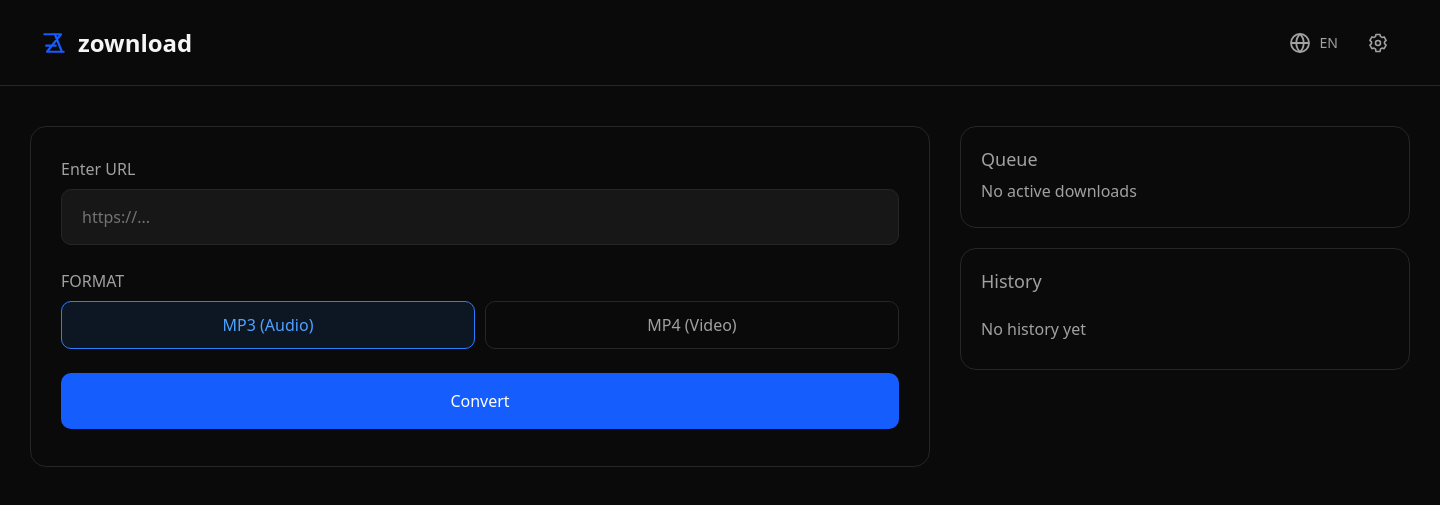
Test: analyzing blocks duplicate submission and translated errors stay below the URL
Type "not-a-url" into the field labelled "Enter URL" at (480, 217), box [61,189,899,245]
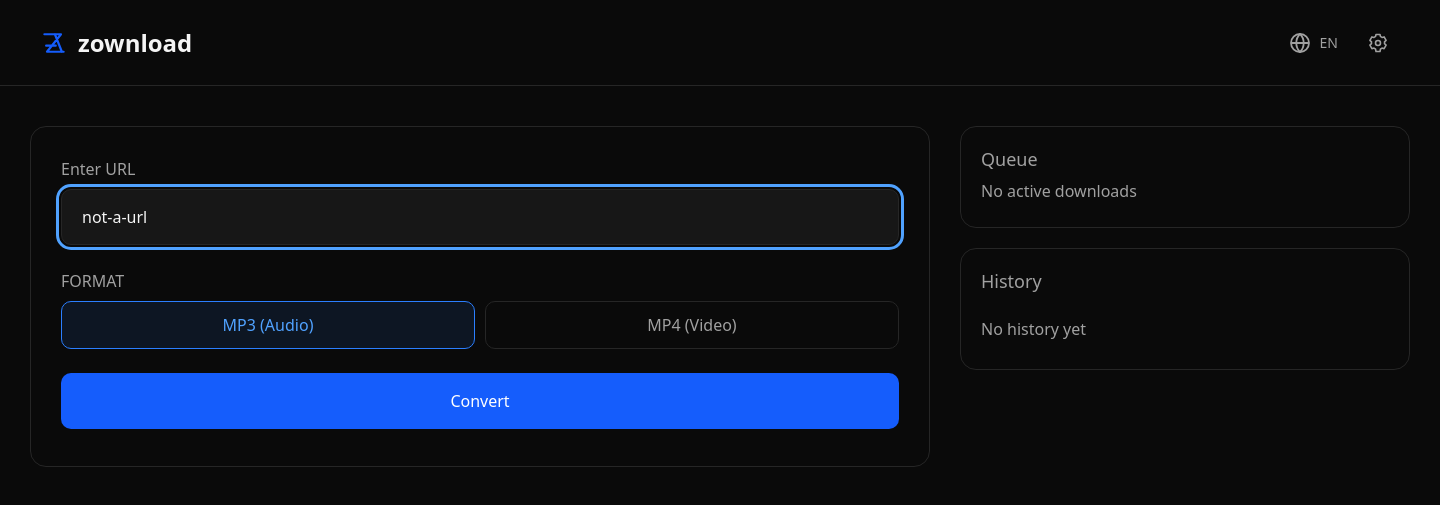
Click the button "Convert" at (480, 401), box [61,373,899,429]
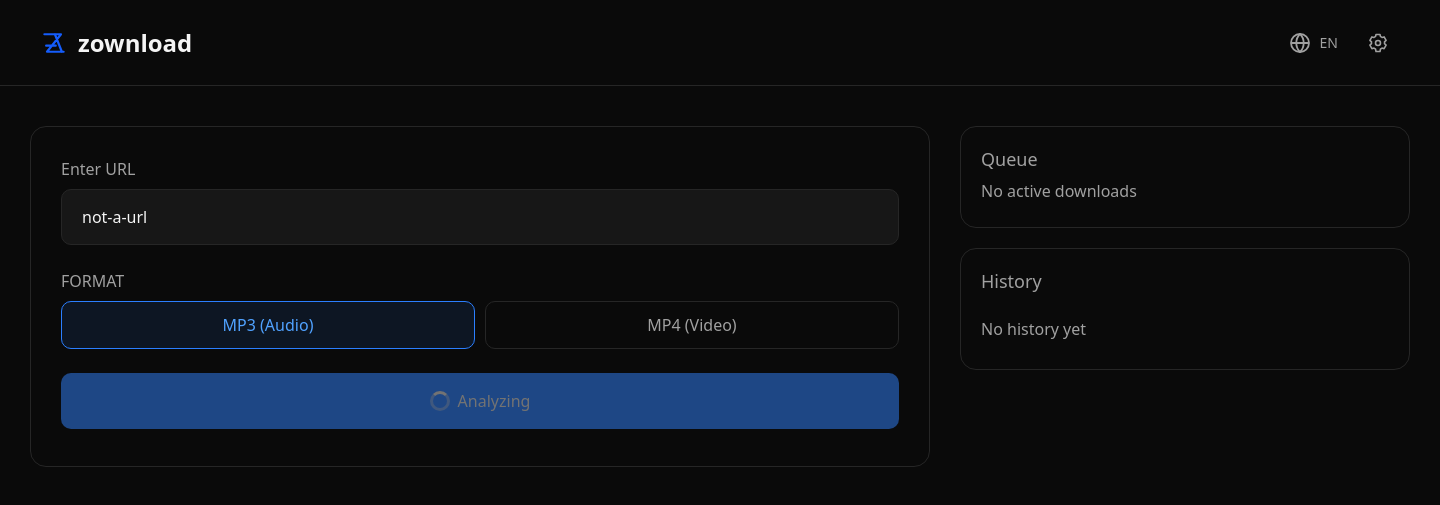
Result: the button "Analyzing" is disabled
Result: the element with class "animate-spin" is shown at [430,391,450,411]
Click the button "Analyzing" at (480, 401), box [61,373,899,429]
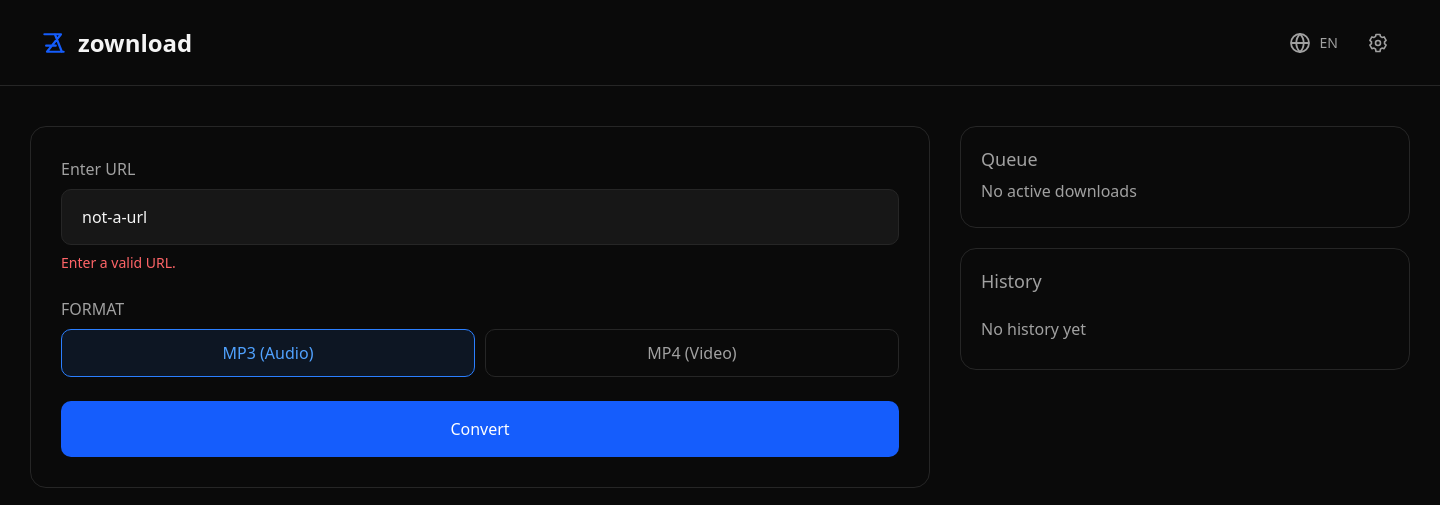
Result: the message reads "Enter a valid URL." at [61,253,176,272]
Click the button with aria-label "Switch to Spanish" at (1313, 42), box [1278,20,1348,64]
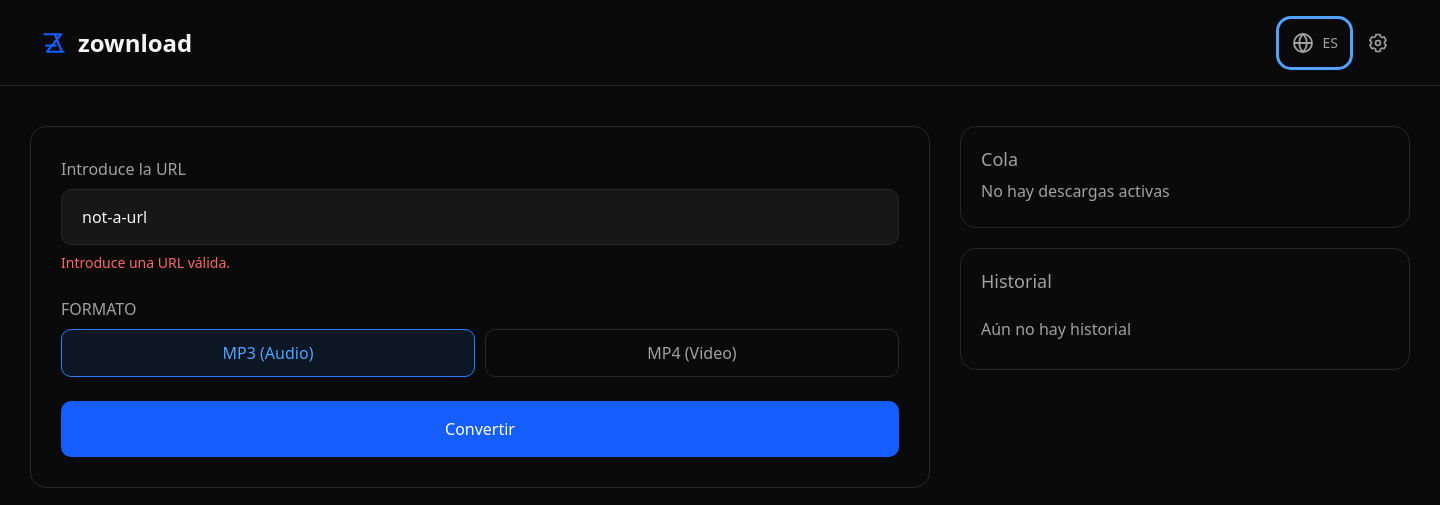
Result: the message reads "Introduce una URL válida." at [61,253,230,272]
Result: the button "Convertir" is shown at [61,401,899,457]
